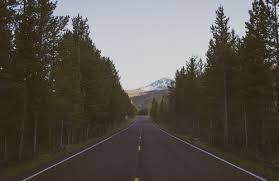strada: (51, 114, 249, 180)
